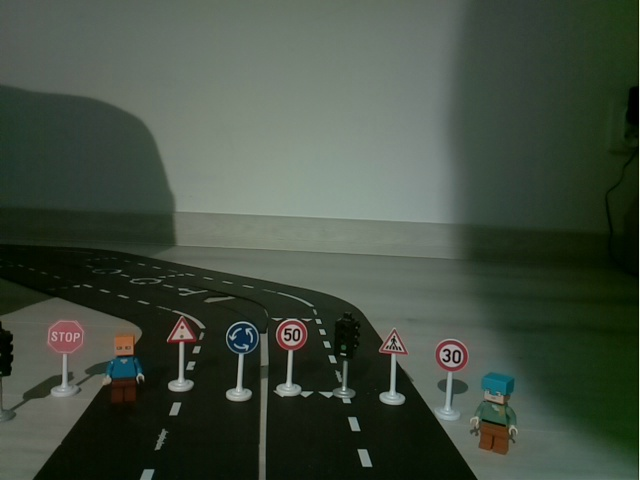green light: (324, 310, 362, 403)
limit 30: (432, 336, 468, 421)
limit 50: (272, 317, 310, 398)
pedestrian sign: (375, 325, 410, 409)
person: (471, 368, 523, 461), (100, 334, 146, 407)
round: (218, 318, 262, 408)
stop: (44, 316, 87, 400)
traffic light sign: (160, 314, 198, 394)
